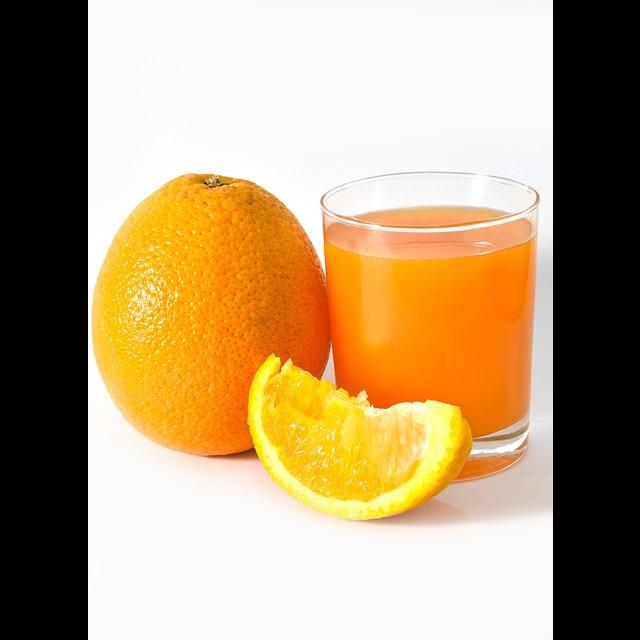orange: (79, 141, 347, 464), (225, 353, 491, 526)
